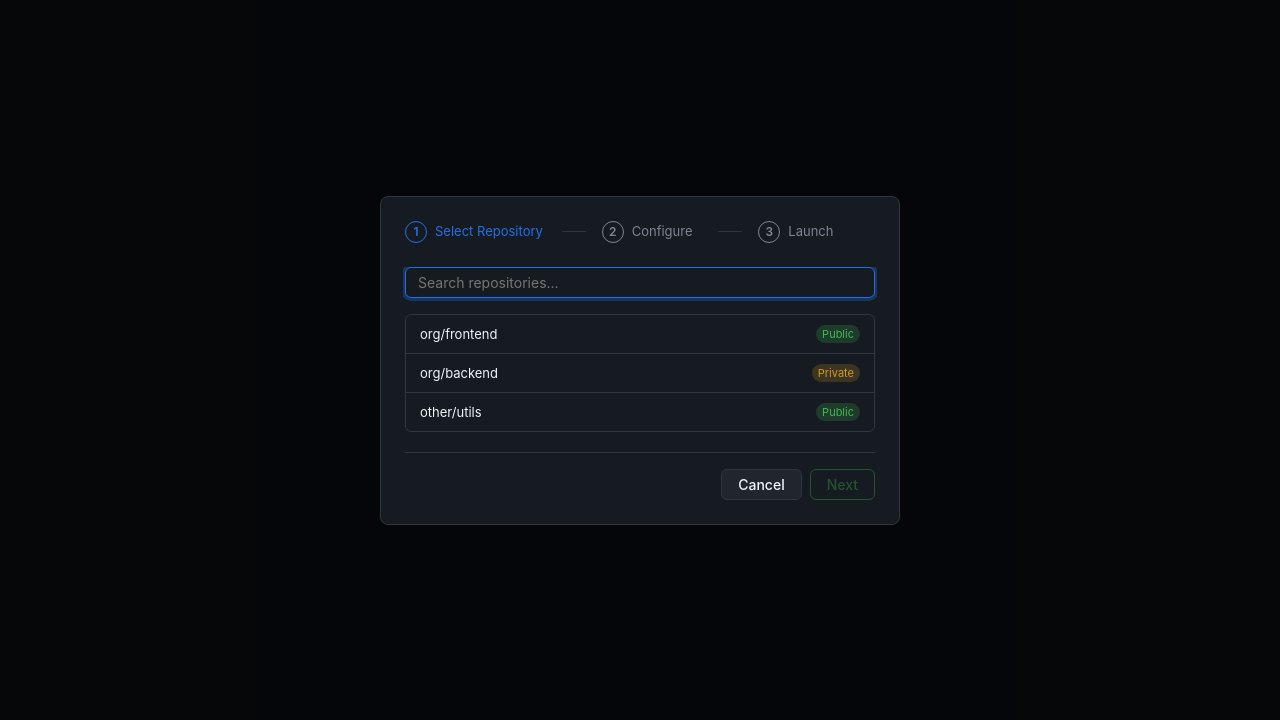
Scenario: NewRunnerWizard › advances to step 2 on repo selection
Click the text "org/frontend" at (459, 334), box [420,326,498,342]
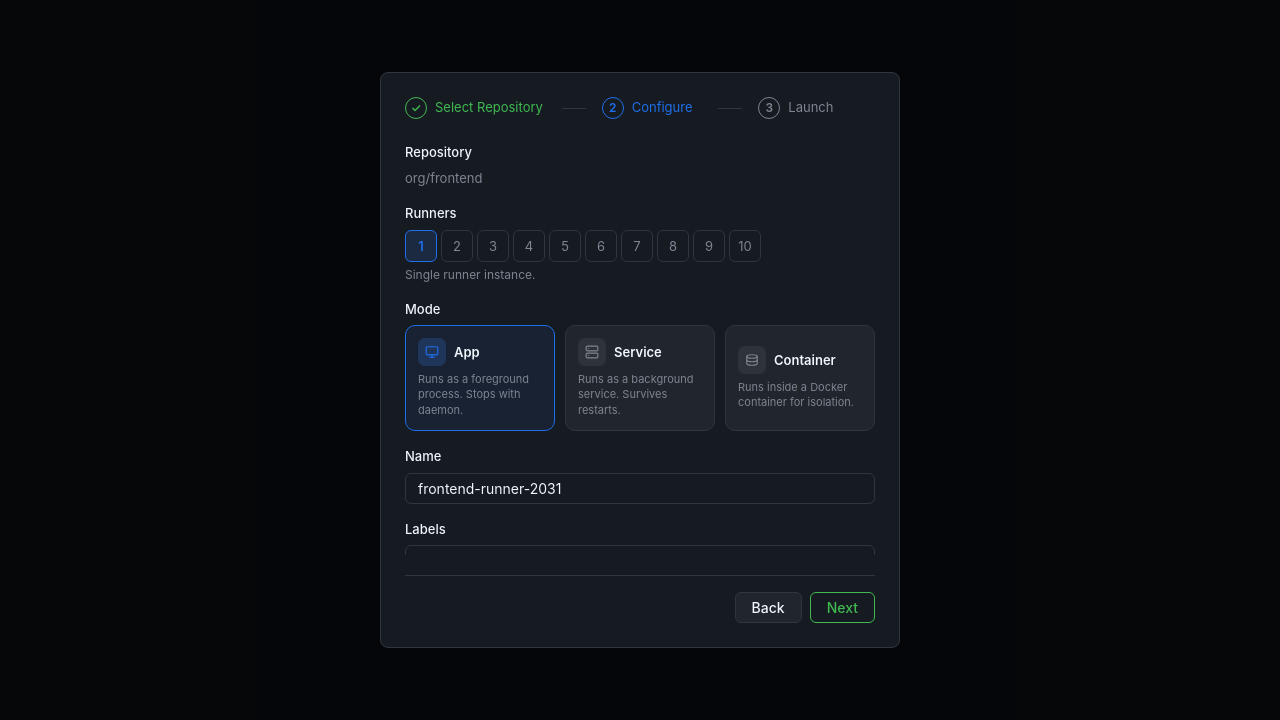
Check: the field labelled "Name" is shown, box [405,473,875,504]
